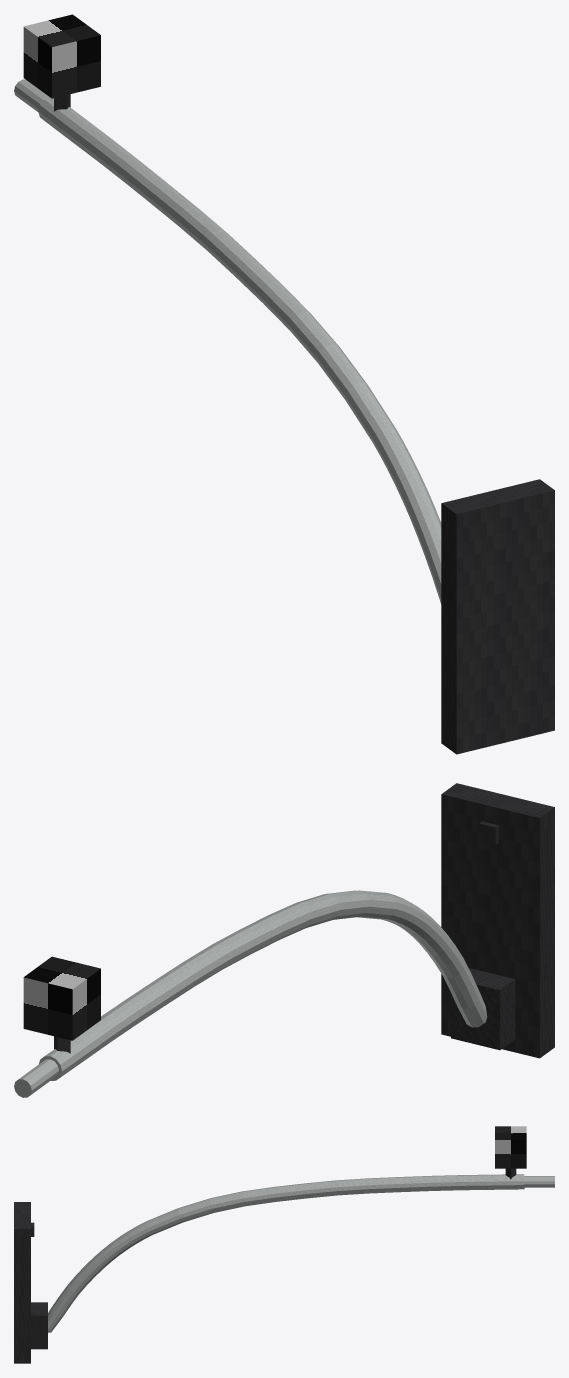
Rendered from arm_3_straight.obj.
3 renders of one model, top to bottom at view 1: azimuth 30°, elevation 25°; view 2: azimuth 150°, elevation 25°; view 3: azimuth 270°, elevation 25°, orthographic. The views are drawn at different scales.
Visible parts, largest first — view 1: pole_light_mount_3_straight; view 2: pole_light_mount_3_straight; view 3: pole_light_mount_3_straight.
Part boxes in pixels (box(x1,y1,x2,y2)): pole_light_mount_3_straight: box(14, 14, 554, 754); pole_light_mount_3_straight: box(14, 783, 554, 1097); pole_light_mount_3_straight: box(14, 1126, 554, 1363).
Size of the model in its own units: 0.375 by 1.41 by 3.19.
